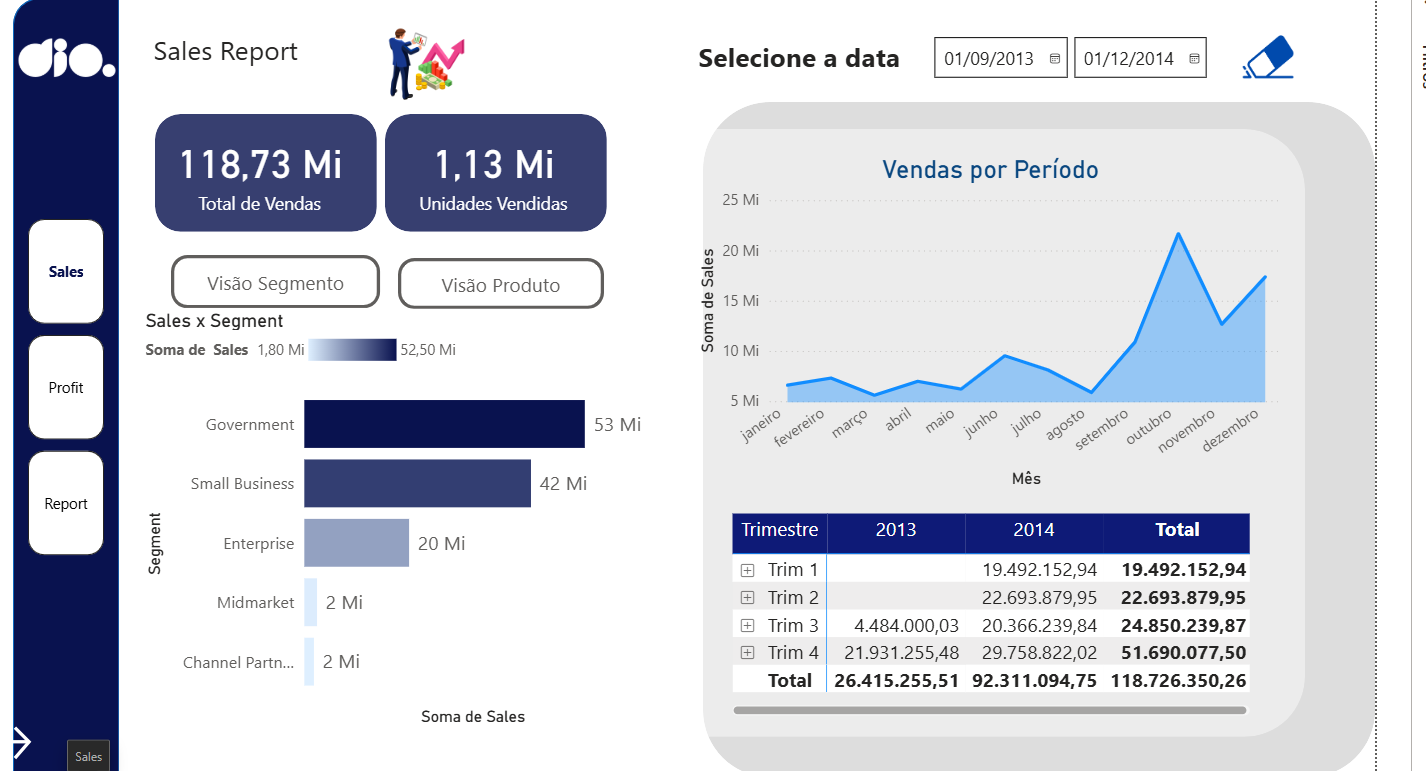

The page's visual inventory and layout, read from the dashboard file:
{"tool":"powerbi","page":{"name":"Sales","canvas":[1280,720],"ordinal":0},"visuals":[{"type":"shape","box":[45.3,13.9,96.4,706.2],"z":0,"group":"g1"},{"type":"group","id":"g1","title":"Layout","box":[45.3,13.9,447.7,706.2],"z":0},{"type":"slicer","fields":{"Values":["financials.Date"]},"box":[867.2,38.7,272.2,55],"z":0,"group":"g3"},{"type":"shape","box":[174.1,118.9,201.4,106.8],"z":0,"group":"g2"},{"type":"areaChart","title":"Vendas por Período","fields":{"Category":["financials.Date.Variation.Hierarquia de datas.Ano","financials.Date.Variation.Hierarquia de datas.Mês"],"Y":["Sum(financials. Sales)"]},"box":[661.6,156.1,539.7,306.2],"z":0,"group":"g6"},{"type":"clusteredBarChart","title":"Sales x Segment","fields":{"Category":["financials.Segment"],"Y":["Sum(financials. Sales)"]},"box":[160.5,295.5,460.1,382.7],"z":0,"group":"g5"},{"type":"image","title":"logo_dio","box":[45.3,36.2,98.2,63.2],"z":1000,"group":"g1"},{"type":"textbox","box":[167.8,39,175.3,51.4],"z":1000,"group":"g4"},{"type":"textbox","box":[661.6,44.7,199.6,45.6],"z":1000,"group":"g3"},{"type":"shape","box":[382.8,118.9,201.4,106.8],"z":1000,"group":"g2"},{"type":"actionButton","title":"Botão - Next","box":[25.9,669,48.8,39.6],"z":1000},{"type":"image","box":[366,14.9,127,117.9],"z":2000,"group":"g1"},{"type":"actionButton","box":[1153.4,43.3,59.9,51.3],"z":2000,"group":"g3"},{"type":"group","id":"g2","title":"Cartões","box":[174.1,117.9,410.8,107],"z":2000},{"type":"card","fields":{"Values":["Sum(financials. Sales)"]},"box":[188,117.9,162.6,106.9],"z":2000,"group":"g2"},{"type":"actionButton","title":"B-Segmento","box":[189,246.6,189.6,48.4],"z":2000,"group":"g5"},{"type":"group","id":"g3","title":"Filtro por data","box":[661.6,38.7,551.5,55],"z":3000},{"type":"image","title":"clean","box":[1153.4,39,59.9,55.6],"z":3000,"group":"g3"},{"type":"card","fields":{"Values":["Sum(financials.Units Sold)"]},"box":[402.7,122.1,156.5,98.6],"z":3000,"group":"g2"},{"type":"actionButton","title":"B-Produto","box":[394.8,249.3,186.8,46.3],"z":3000,"group":"g5"},{"type":"shape","box":[671,107.9,609.5,612.5],"z":4000},{"type":"group","id":"g4","title":"Title report","box":[167.8,39,175.3,51.4],"z":5000},{"type":"group","id":"g5","title":"Grupo 1","box":[160.5,246.6,459.7,431.6],"z":6000},{"type":"shape","box":[620.3,132.4,596.7,551.3],"z":7000},{"type":"group","id":"g6","title":"Perspectiva temporal das vendas","box":[661.6,156.1,539.7,306.2],"z":8000},{"type":"pivotTable","fields":{"Columns":["financials.Date.Variation.Hierarquia de datas.Ano"],"Rows":["financials.Date.Variation.Hierarquia de datas.Trimestre","financials.Date.Variation.Hierarquia de datas.Mês"],"Values":["Sum(financials. Sales)"]},"box":[692.8,475.7,478.7,193.3],"z":9000},{"type":"pageNavigator","box":[58.9,214,69.9,306.2],"z":10000}]}

Visuals, with their boxes on the page's 1280x720 design canvas (x1, y1, x2, y2). These are canvas units, not pixel positions in the 1426x771 screenshot, which may show the page scaled, cropped or inside an application window:
shape: [x1=45, y1=14, x2=142, y2=720]
"Layout" group: [x1=45, y1=14, x2=493, y2=720]
slicer - financials.Date: [x1=867, y1=39, x2=1139, y2=94]
shape: [x1=174, y1=119, x2=376, y2=226]
"Vendas por Período" areaChart: [x1=662, y1=156, x2=1201, y2=462]
"Sales x Segment" clusteredBarChart: [x1=160, y1=296, x2=621, y2=678]
"logo_dio" image: [x1=45, y1=36, x2=144, y2=99]
textbox: [x1=168, y1=39, x2=343, y2=90]
textbox: [x1=662, y1=45, x2=861, y2=90]
shape: [x1=383, y1=119, x2=584, y2=226]
"Botão - Next" actionButton: [x1=26, y1=669, x2=75, y2=709]
image: [x1=366, y1=15, x2=493, y2=133]
actionButton: [x1=1153, y1=43, x2=1213, y2=95]
"Cartões" group: [x1=174, y1=118, x2=585, y2=225]
card - Sum(financials. Sales): [x1=188, y1=118, x2=351, y2=225]
"B-Segmento" actionButton: [x1=189, y1=247, x2=379, y2=295]
"Filtro por data" group: [x1=662, y1=39, x2=1213, y2=94]
"clean" image: [x1=1153, y1=39, x2=1213, y2=95]
card - Sum(financials.Units Sold): [x1=403, y1=122, x2=559, y2=221]
"B-Produto" actionButton: [x1=395, y1=249, x2=582, y2=296]
shape: [x1=671, y1=108, x2=1280, y2=720]
"Title report" group: [x1=168, y1=39, x2=343, y2=90]
"Grupo 1" group: [x1=160, y1=247, x2=620, y2=678]
shape: [x1=620, y1=132, x2=1217, y2=684]
"Perspectiva temporal das vendas" group: [x1=662, y1=156, x2=1201, y2=462]
pivotTable - financials.Date.Variation.Hierarquia de datas.Ano x financials.Date.Variation.Hierarquia de datas.Trimestre: [x1=693, y1=476, x2=1172, y2=669]
pageNavigator: [x1=59, y1=214, x2=129, y2=520]
